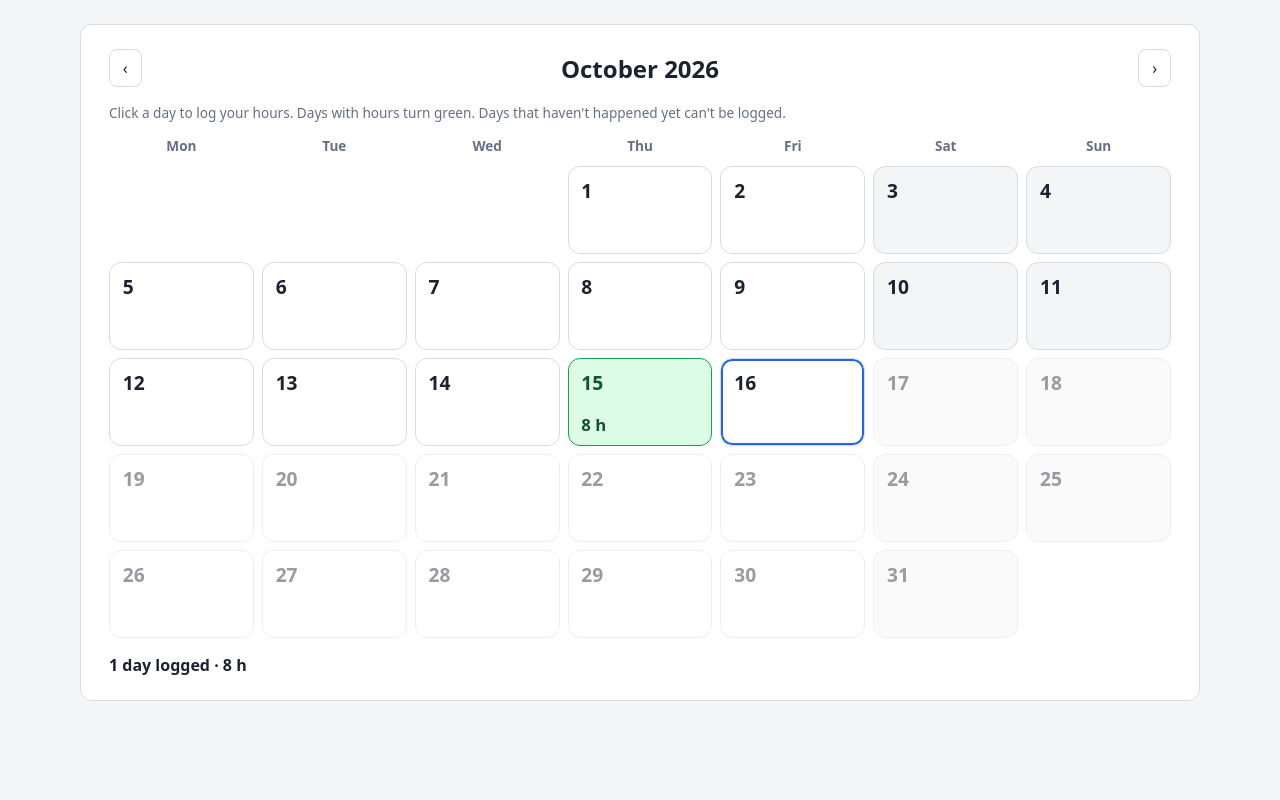
Test: logging hours › clears a logged day, which stops being green
Click the button named "Thu, Oct 15," at coordinates (640, 402), box x1=568 y1=358 x2=712 y2=446
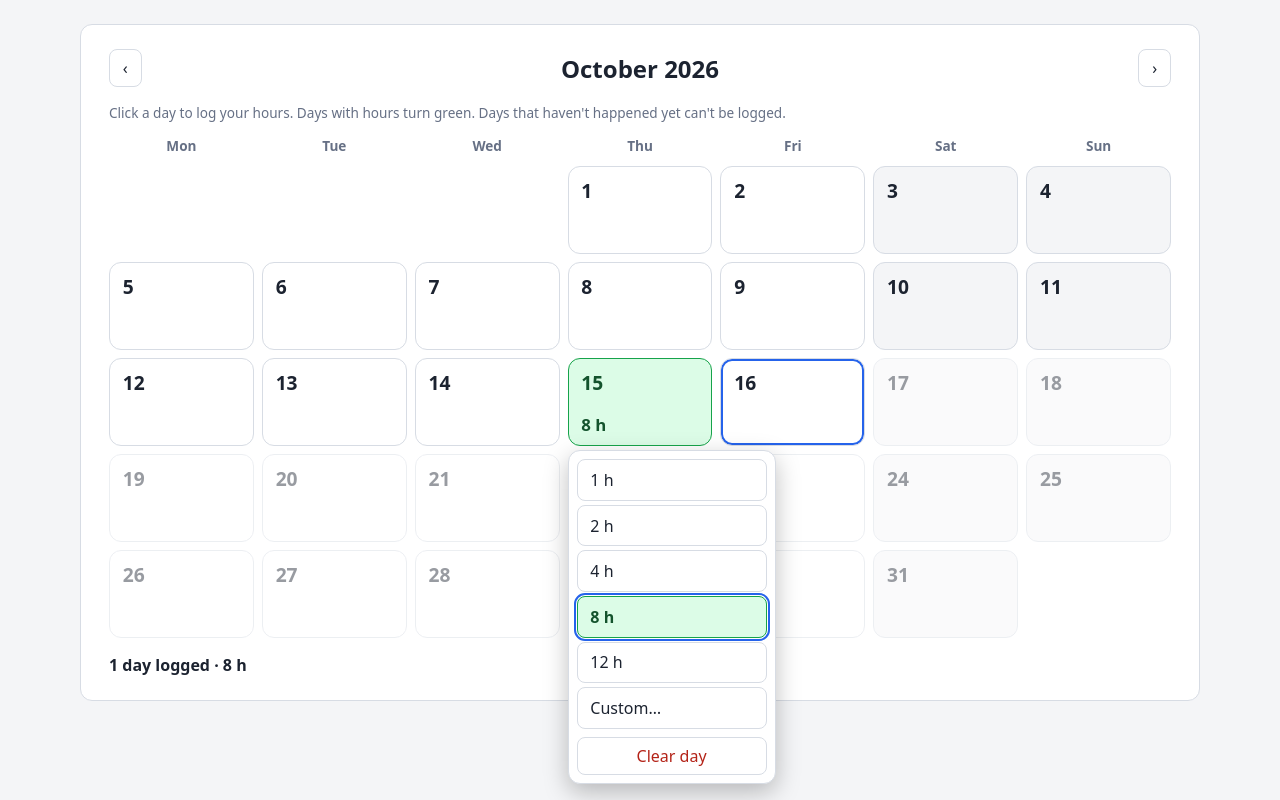
Click the button "Clear day" at coordinates (672, 756), box x1=577 y1=737 x2=767 y2=775
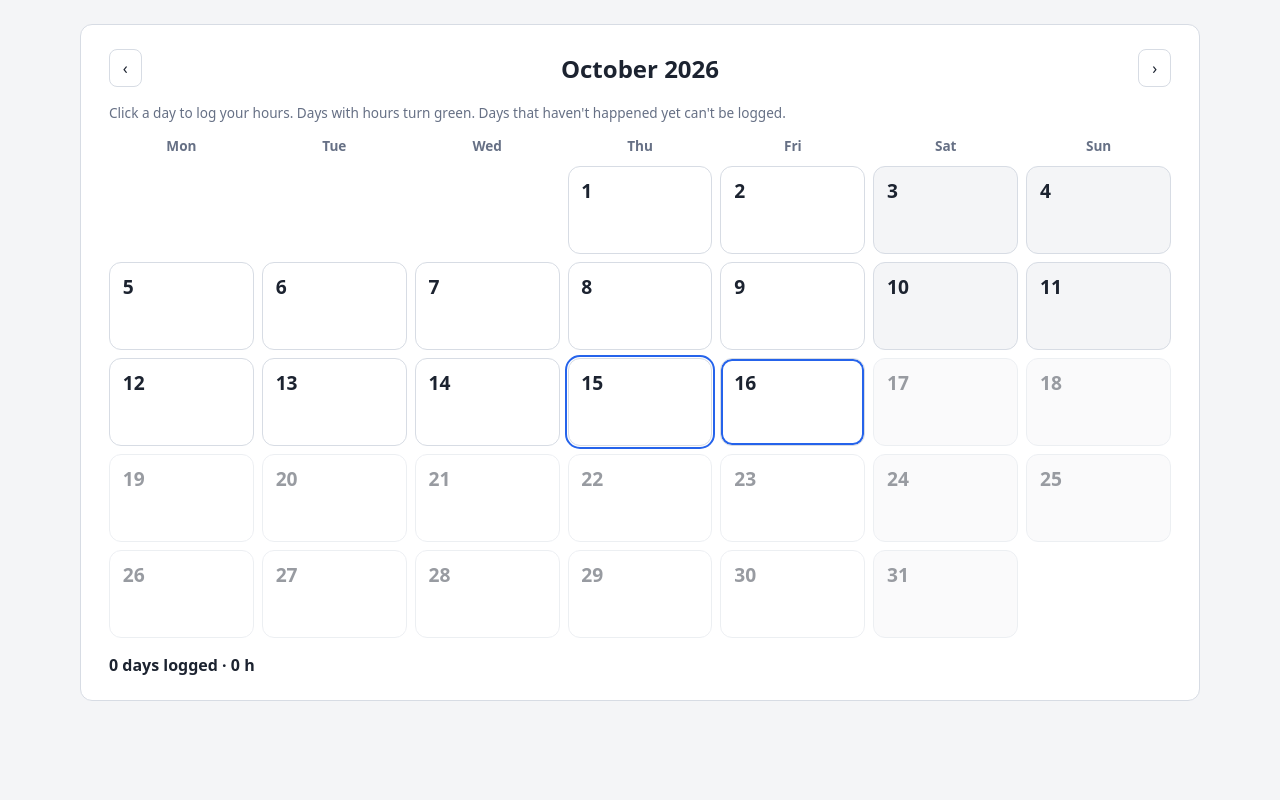
Expected: the text "0 days logged · 0 h" is shown, x1=109 y1=654 x2=255 y2=676
